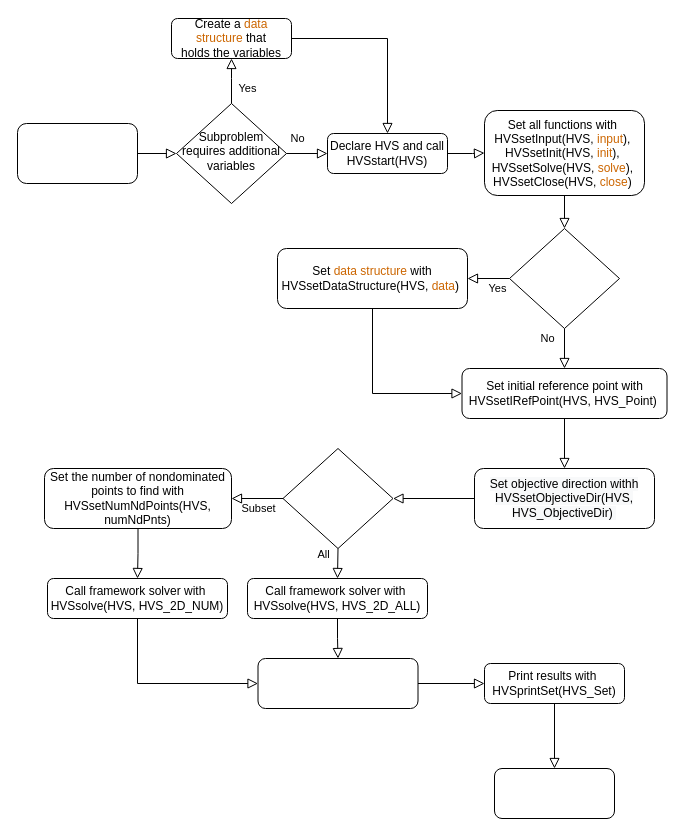
This 685x836 diagram has some shape labels left out. Here are the shapes that lost their labels. From the top down, the box of each, then its label:
(16, 122, 138, 184): Implement input, init, solve, close
(508, 228, 620, 328): Additional variables are needed
(282, 448, 393, 548): How many nondominated points to find
(257, 658, 418, 708): Get the set of nondominated points found with HVSgetSols(HVS)
(494, 768, 614, 818): Free frameworks resources with HVSfree(HVS)
